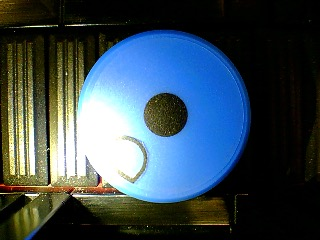BOHOMIPO1: (74, 28, 252, 205)
